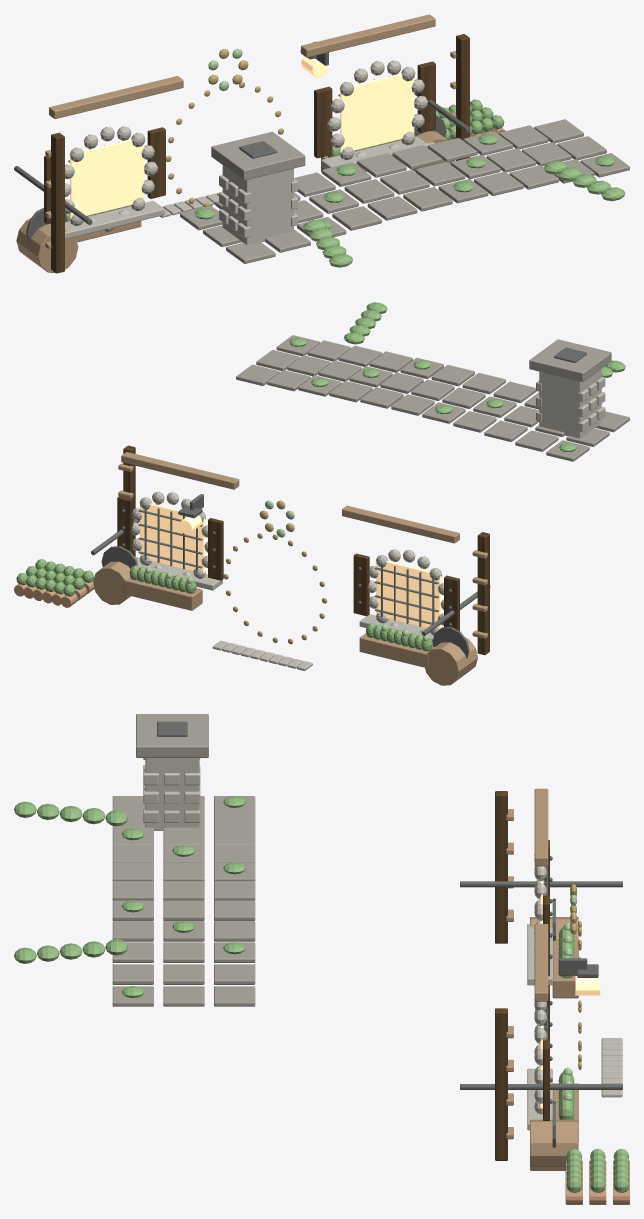
File: shire_west_grove_cottage_craftwork.glb
3 renders of one model, top to bottom at view 1: azimuth 30°, elevation 25°; view 2: azimuth 150°, elevation 25°; view 3: azimuth 270°, elevation 25°, orthographic. The views are drawn at different scales.
Parts seen in each view (by area): view 1: Art_roof_slate, Art_rounded_fieldstone, Art_amber_glass, Art_oak_grain_original, Art_weathered_wood, Art_ivy_and_herbs, Art_forged_iron, Art_warm_brass; view 2: Art_roof_slate, Art_weathered_wood, Art_rounded_fieldstone, Art_ivy_and_herbs, Art_amber_glass, Art_oak_grain_original, Art_forged_iron, Art_terracotta_pots, Art_warm_brass; view 3: Art_roof_slate, Art_rounded_fieldstone, Art_ivy_and_herbs, Art_weathered_wood, Art_oak_grain_original, Art_forged_iron, Art_terracotta_pots.
Boxes of the visible parts, bbox=[...] form: Art_roof_slate: bbox=[180, 119, 629, 263]; Art_rounded_fieldstone: bbox=[65, 60, 434, 244]; Art_amber_glass: bbox=[70, 56, 414, 218]; Art_oak_grain_original: bbox=[44, 34, 469, 273]; Art_weathered_wood: bbox=[16, 14, 456, 272]; Art_ivy_and_herbs: bbox=[66, 99, 625, 267]; Art_forged_iron: bbox=[14, 41, 470, 241]; Art_warm_brass: bbox=[166, 49, 283, 206]; Art_roof_slate: bbox=[236, 335, 629, 461]; Art_weathered_wood: bbox=[93, 452, 487, 685]; Art_rounded_fieldstone: bbox=[132, 369, 605, 670]; Art_ivy_and_herbs: bbox=[16, 302, 625, 651]; Art_amber_glass: bbox=[140, 503, 441, 629]; Art_oak_grain_original: bbox=[117, 445, 489, 655]; Art_forged_iron: bbox=[91, 347, 586, 658]; Art_terracotta_pots: bbox=[14, 580, 94, 607]; Art_warm_brass: bbox=[223, 500, 327, 644]; Art_roof_slate: bbox=[112, 714, 255, 1006]; Art_rounded_fieldstone: bbox=[143, 758, 622, 1130]; Art_ivy_and_herbs: bbox=[14, 796, 629, 1193]; Art_weathered_wood: bbox=[506, 788, 578, 1170]; Art_oak_grain_original: bbox=[495, 791, 549, 1160]; Art_forged_iron: bbox=[157, 721, 622, 1147]; Art_terracotta_pots: bbox=[565, 1160, 629, 1204].
Size of the model in its own units: 8.64 by 4.02 by 8.63.
Materials: 10 (1 with a texture image).
